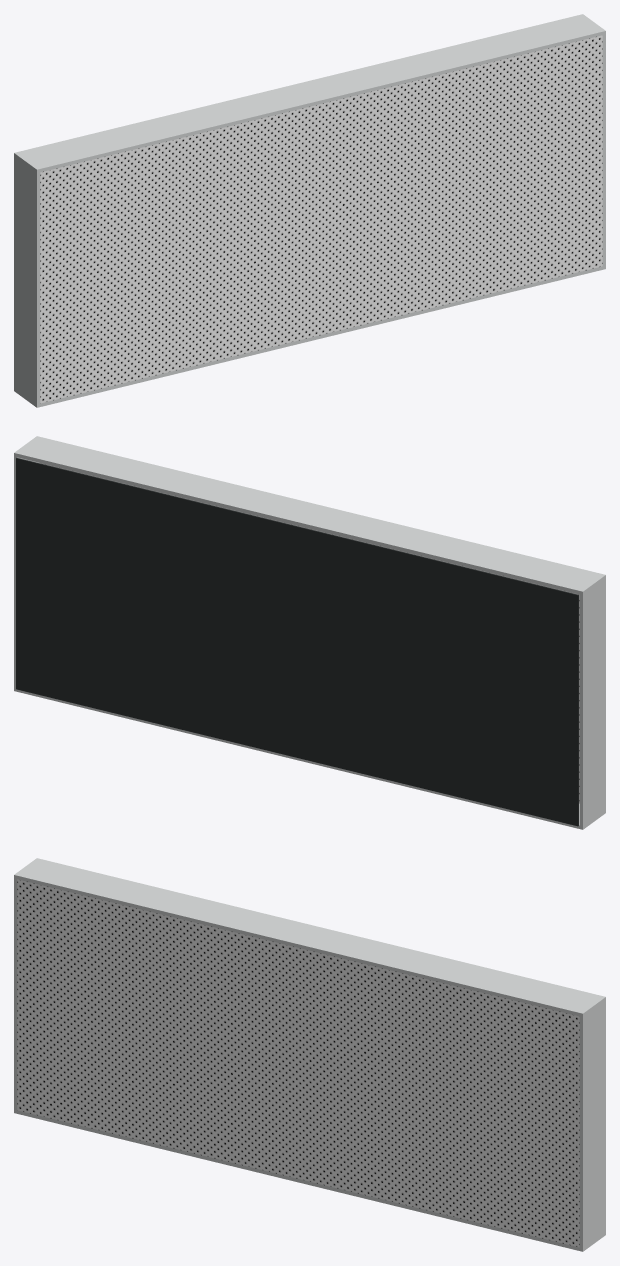
File: ecoclima-egff-500x200.glb
3 renders of one model, top to bottom at view 1: azimuth 30°, elevation 25°; view 2: azimuth 150°, elevation 25°; view 3: azimuth 330°, elevation 25°, orthographic.
Visible parts, largest first — view 1: Profile_lamiera_forata.002, Profile_ritorno.124, Profile_ritorno.126, Profile_ritorno.125, Profile_ritorno.127; view 2: Interno.033, Profile_ritorno.124, Profile_ritorno.126, Profile_ritorno.125, Profile_lamiera_forata.002; view 3: Profile_lamiera_forata.002, Profile_ritorno.124, Profile_ritorno.127, Profile_ritorno.125, Profile_ritorno.126.
Boxes of the visible parts, x1=… form: Profile_lamiera_forata.002: x1=40, y1=35, x2=602, y2=403; Profile_ritorno.124: x1=14, y1=14, x2=605, y2=173; Profile_ritorno.126: x1=14, y1=157, x2=40, y2=404; Profile_ritorno.125: x1=14, y1=265, x2=605, y2=407; Profile_ritorno.127: x1=602, y1=34, x2=605, y2=265; Interno.033: x1=16, y1=458, x2=578, y2=826; Profile_ritorno.124: x1=14, y1=436, x2=605, y2=595; Profile_ritorno.126: x1=579, y1=579, x2=605, y2=826; Profile_ritorno.125: x1=14, y1=687, x2=605, y2=829; Profile_lamiera_forata.002: x1=40, y1=463, x2=579, y2=803; Profile_lamiera_forata.002: x1=17, y1=879, x2=579, y2=1247; Profile_ritorno.124: x1=14, y1=858, x2=605, y2=1017; Profile_ritorno.127: x1=579, y1=1001, x2=605, y2=1248; Profile_ritorno.125: x1=14, y1=1109, x2=605, y2=1251; Profile_ritorno.126: x1=14, y1=878, x2=17, y2=1109.
Bounding box in the file's own units: 0.5 × 0.2 × 0.037.
3 materials, 1 textured.
